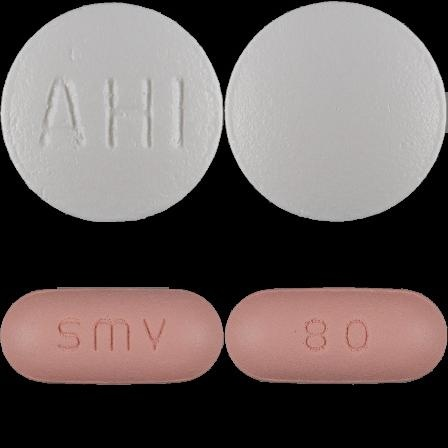69189-0035: (0, 0, 224, 224)
